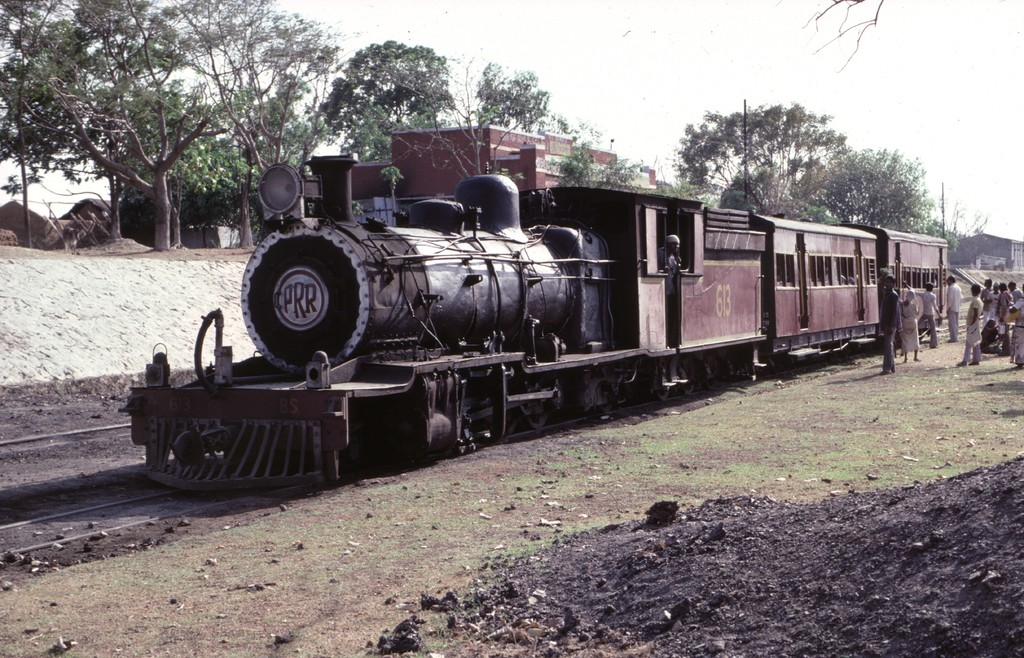train: (119, 151, 948, 490)
